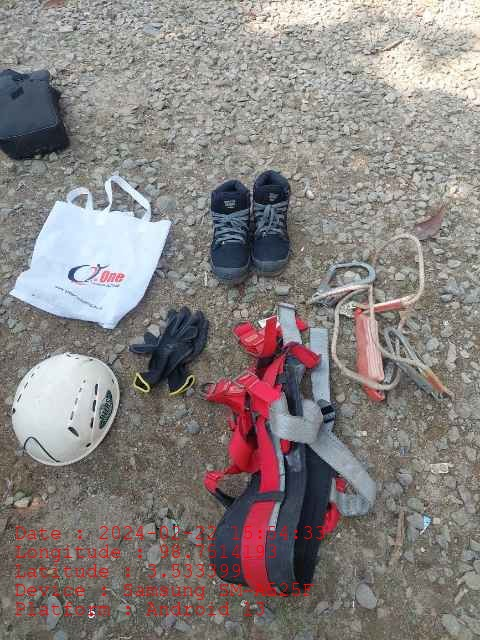HELM: (7, 349, 119, 471)
SARUNG TANGAN: (133, 307, 209, 391)
SEPATU: (208, 173, 294, 282)
TAMBANG_SLING: (316, 237, 455, 413)
